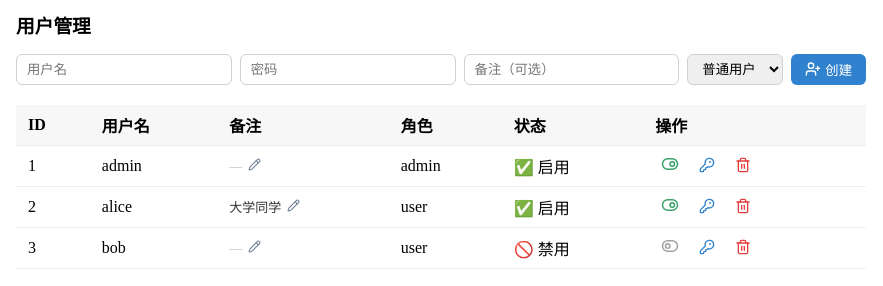
Test case: AdminUsers note feature › enters edit mode when clicking edit note button
The width and height of the screenshot is (883, 286).
Expected: the text "大学同学" is shown, [229, 197, 281, 216]
Click the button titled "编辑备注" next to "大学同学": coordinates (294, 207) [285, 197, 302, 217]
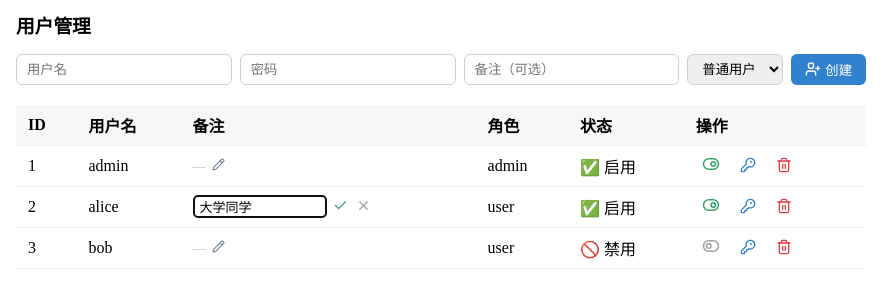
Expected: the field showing "大学同学" is shown, [192, 195, 326, 218]
Expected: the button titled "保存" is shown, [330, 196, 350, 218]
Expected: the button titled "取消" is shown, [354, 196, 372, 218]
